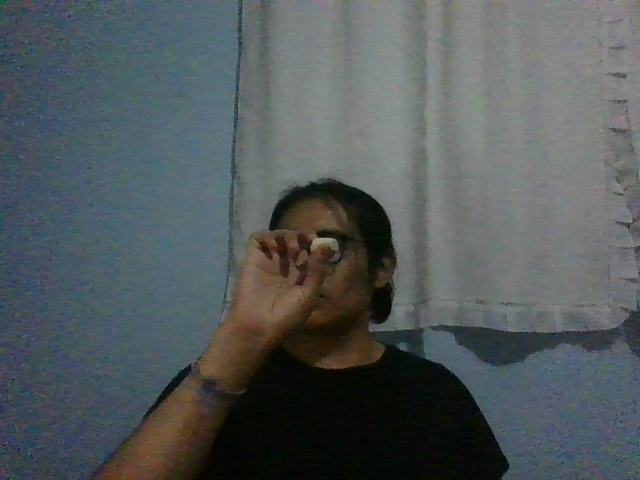goma: (310, 237, 338, 253)
